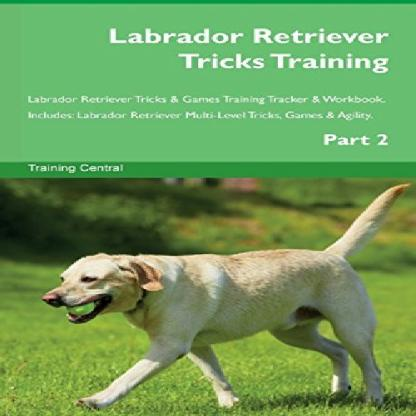Labarador Retriever: (42, 184, 416, 405)
